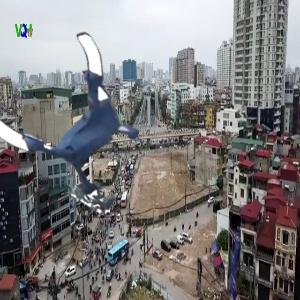drone: (7, 41, 156, 190)
